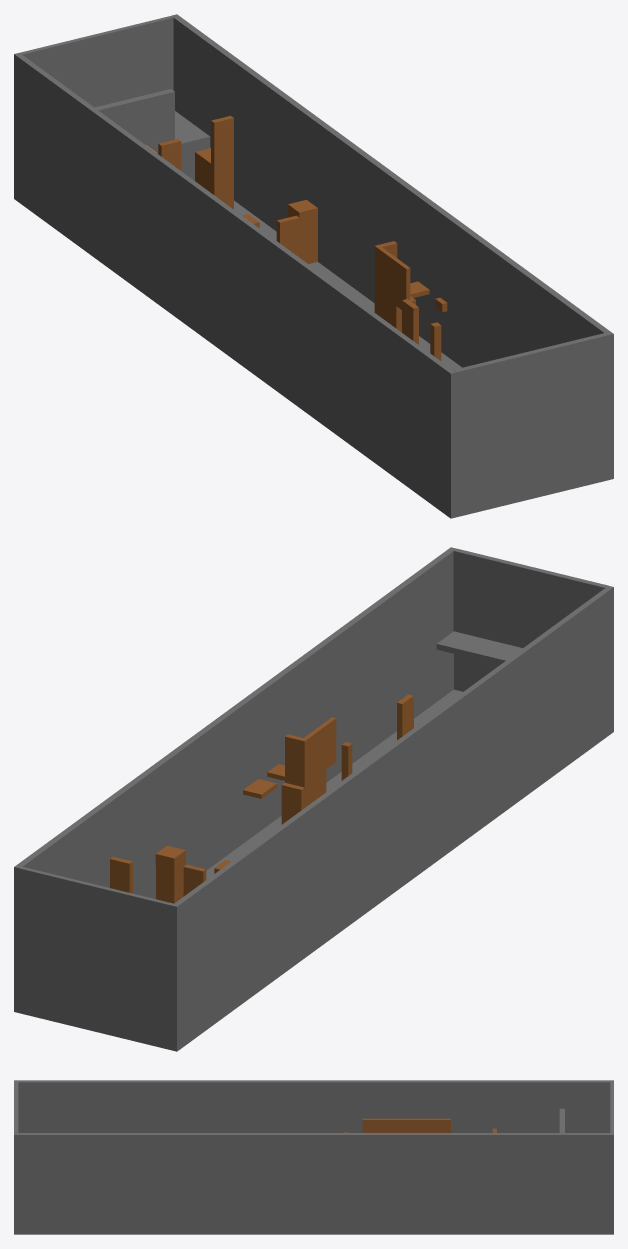
The model's file is ParkourLevel6.fbx.
3 renders of one model, top to bottom at view 1: azimuth 30°, elevation 25°; view 2: azimuth 150°, elevation 25°; view 3: azimuth 270°, elevation 25°, orthographic. The views are drawn at different scales.
Parts seen in each view (by area): view 1: Cube, Cube.021, Cube.011, Cube.010, Cube.018, Cube.029; view 2: Cube, Cube.018, Cube.010, Cube.011, Cube.029, Cube.021; view 3: Cube, Cube.012.
Boxes of the visible parts, x1,y1,x2,y2 form: Cube: [14, 14, 613, 518]; Cube.021: [195, 115, 233, 209]; Cube.011: [377, 247, 410, 309]; Cube.010: [288, 200, 317, 263]; Cube.018: [374, 241, 415, 332]; Cube.029: [276, 215, 299, 257]; Cube: [14, 547, 613, 1051]; Cube.018: [285, 734, 326, 807]; Cube.010: [155, 845, 185, 903]; Cube.011: [304, 717, 336, 781]; Cube.029: [281, 783, 304, 824]; Cube.021: [110, 856, 132, 893]; Cube: [14, 1080, 613, 1234]; Cube.012: [362, 1118, 450, 1132].
Bounding box in the file's own units: 1652 × 1404 × 7666.
